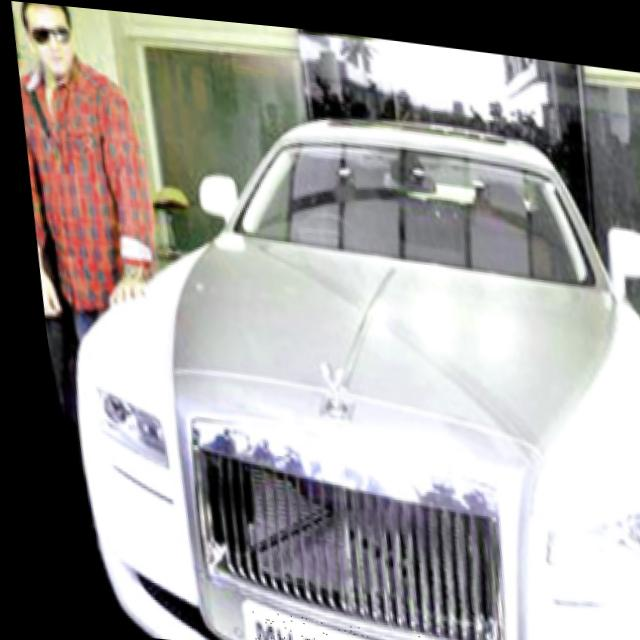license_plate: (228, 605, 442, 640)
